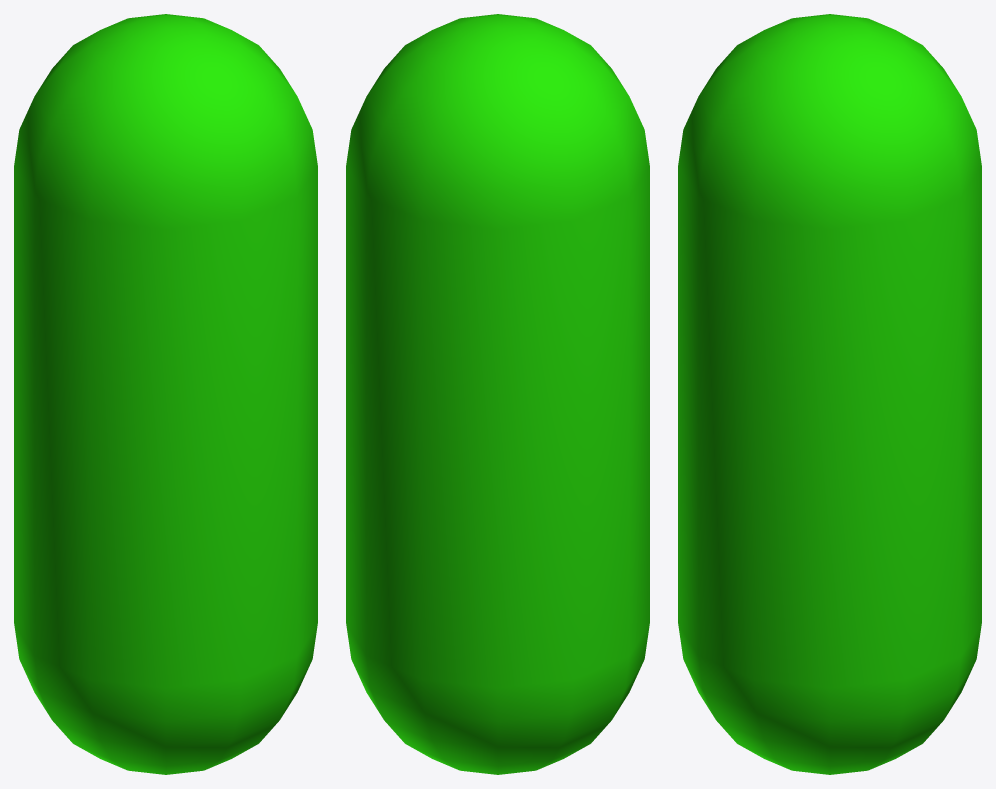
The model's file is player enemy.fbx.
The picture shows the model from 3 angles, left to right: view 1: azimuth 30°, elevation 25°; view 2: azimuth 150°, elevation 25°; view 3: azimuth 270°, elevation 25°; orthographic projection.
Visible parts, largest first — view 1: Capsule001; view 2: Capsule001; view 3: Capsule001.
Boxes of the visible parts, x1,y1,x2,y2 form: Capsule001: [14, 14, 317, 774]; Capsule001: [346, 14, 649, 774]; Capsule001: [678, 14, 981, 774].
Size of the model in its own units: 35.85 by 95.56 by 35.85.
